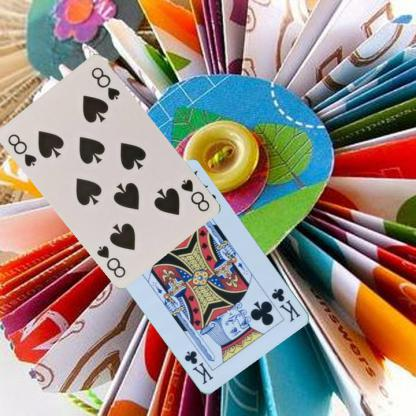8s: (178, 176, 212, 213), (5, 131, 39, 168)
Kc: (269, 286, 302, 324)
